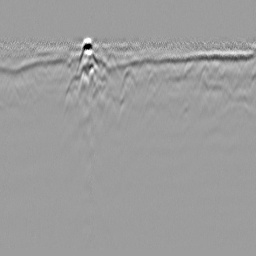cavity: (120, 67, 137, 92)
